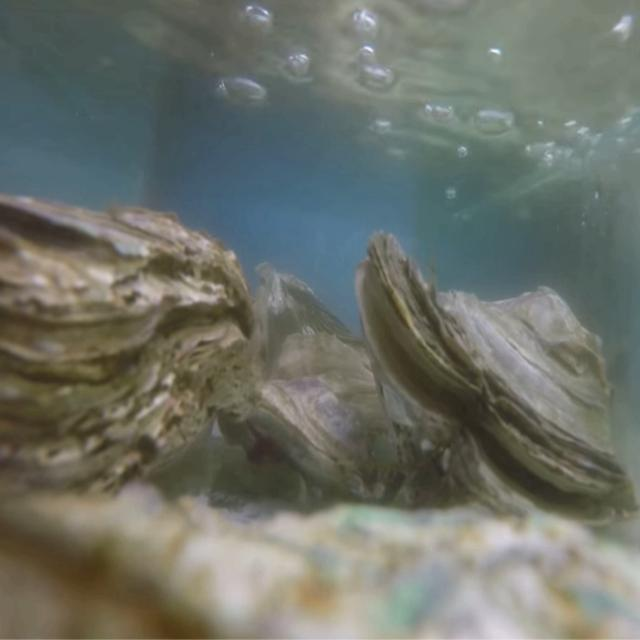Oyster-Closed: (0, 195, 255, 524), (256, 330, 415, 507)
Oyster-Indeterminate: (0, 482, 640, 640), (254, 261, 370, 377)
Oyster-Open: (356, 232, 640, 539)
